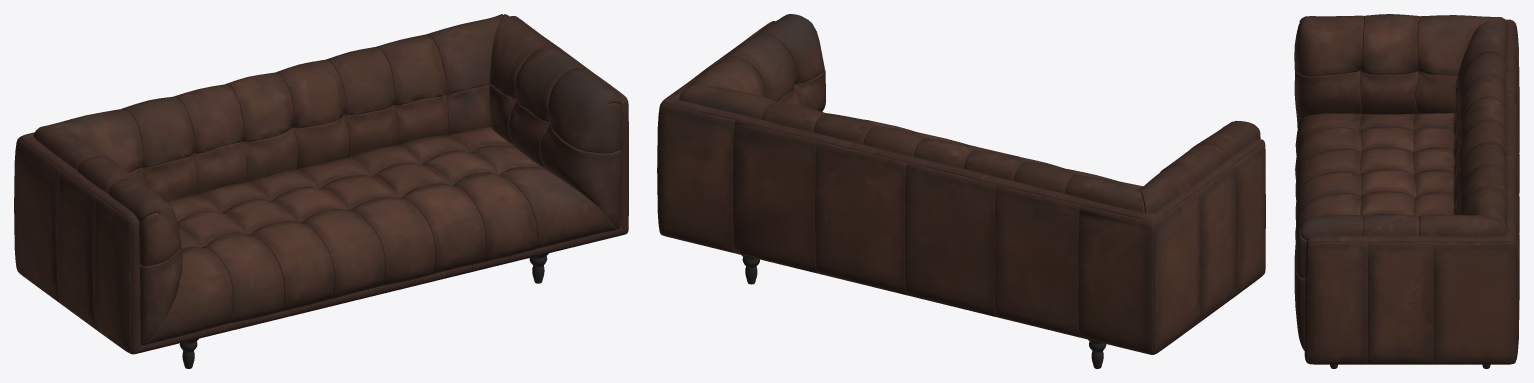
File: sofa.glb
3 renders of one model, left to right at view 1: azimuth 30°, elevation 25°; view 2: azimuth 150°, elevation 25°; view 3: azimuth 270°, elevation 25°, orthographic. The views are drawn at different scales.
Parts seen in each view (by area): view 1: Sofa_Material #3_0, Sofa_1_0; view 2: Sofa_Material #3_0, Sofa_1_0; view 3: Sofa_Material #3_0.
Part boxes in pixels (x1,y1,x2,y2): Sofa_Material #3_0: [14, 14, 628, 354]; Sofa_1_0: [179, 253, 548, 368]; Sofa_Material #3_0: [657, 14, 1265, 354]; Sofa_1_0: [741, 255, 1106, 368]; Sofa_Material #3_0: [1294, 14, 1519, 364].
Bounding box in the file's own units: 219 × 78.73 × 92.27.
2 materials, 2 textured.
